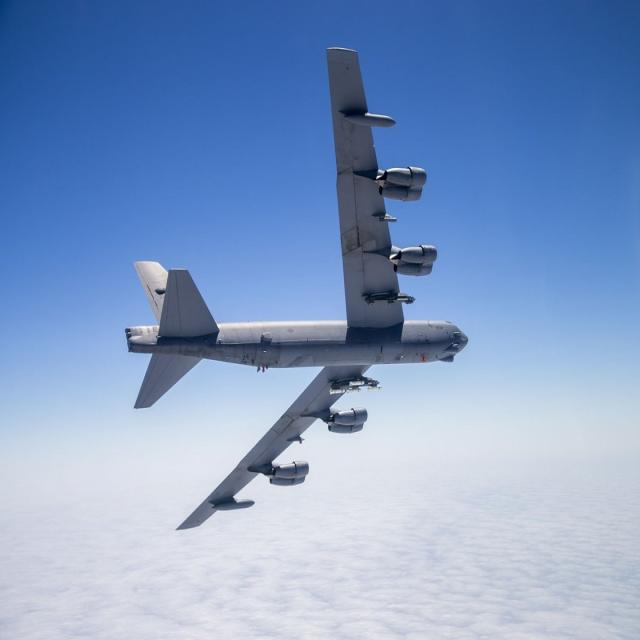MIL_Plane: (0, 0, 276, 338)
